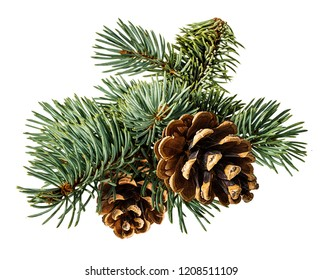Pc: (154, 112, 260, 206), (95, 153, 167, 238)
